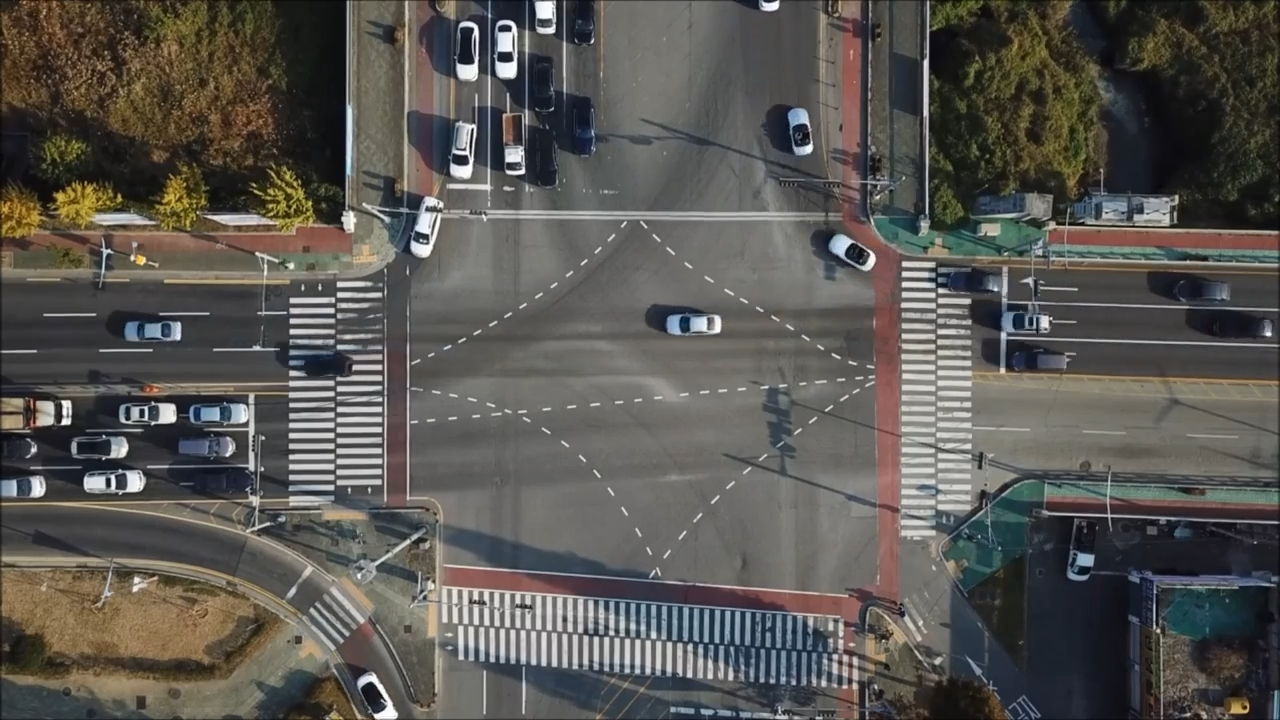car: (1, 396, 73, 433), (408, 196, 444, 259), (355, 673, 399, 720), (829, 231, 879, 272), (1067, 515, 1097, 580), (195, 465, 256, 495), (492, 21, 519, 85), (1212, 312, 1273, 340), (82, 471, 147, 496), (534, 124, 559, 189), (447, 123, 475, 181), (944, 267, 1004, 294), (454, 20, 480, 82), (1174, 276, 1232, 303), (502, 113, 526, 175), (532, 55, 557, 114), (1010, 347, 1068, 372), (120, 320, 182, 343), (118, 403, 179, 425), (176, 436, 234, 459), (572, 94, 594, 154), (72, 437, 129, 460), (786, 107, 813, 155), (667, 312, 720, 336), (190, 405, 249, 426), (1001, 311, 1052, 335), (298, 355, 352, 377), (573, 1, 595, 50), (1, 476, 45, 497), (533, 1, 559, 36), (1, 438, 37, 460), (756, 1, 781, 12)
